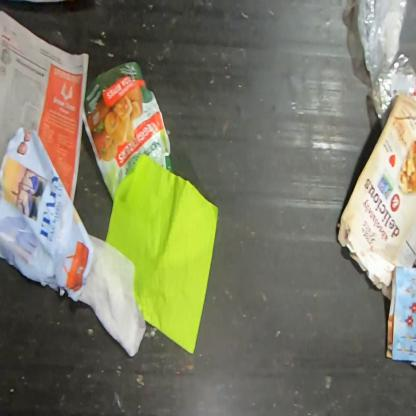cardboard: (337, 92, 416, 290)
rigid_plastic: (356, 0, 415, 131)
soft_plastic: (81, 62, 175, 202)
